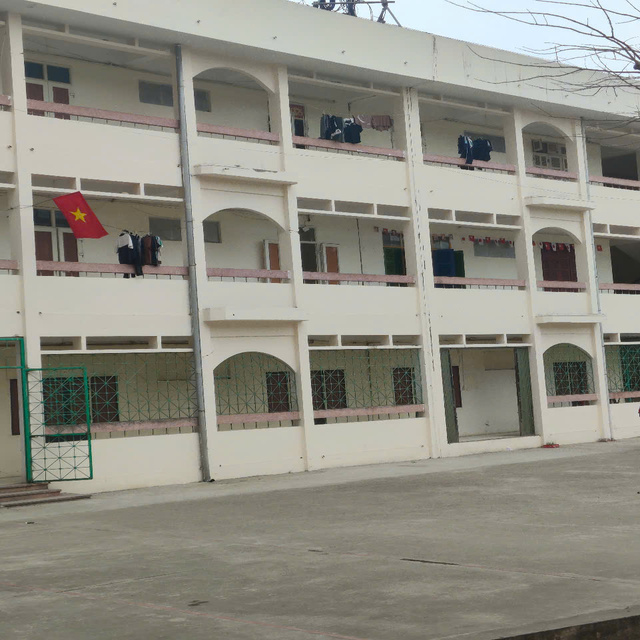laco: (50, 183, 116, 253)
